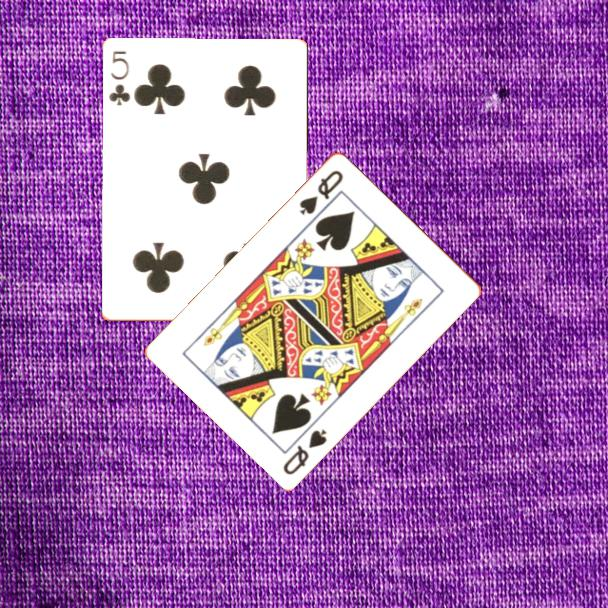c05: (106, 48, 133, 109)
s12: (279, 425, 330, 477), (296, 166, 346, 218)
